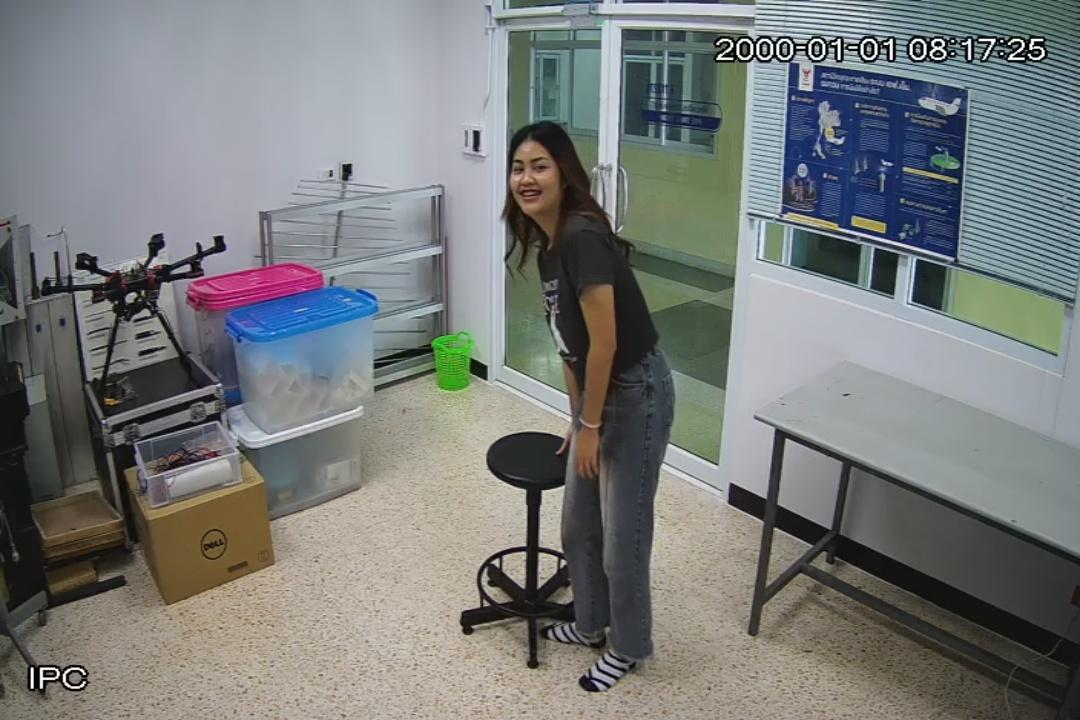normal: (502, 118, 681, 695)
